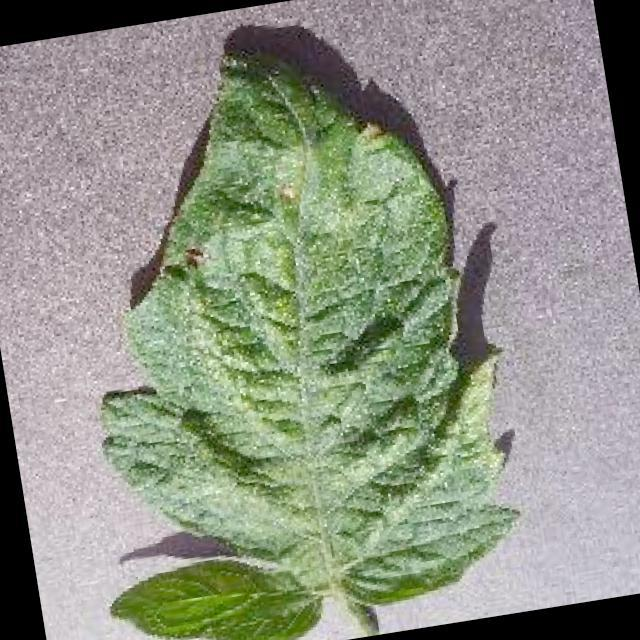Tomato spider mites leaf: (23, 11, 541, 640)
